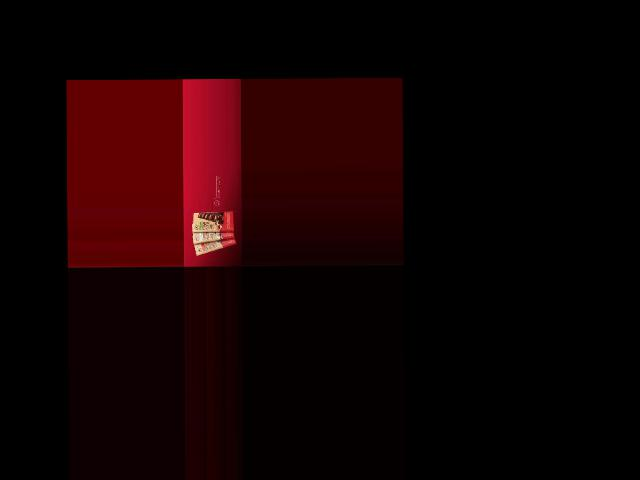chocolate: (191, 234, 238, 255)
